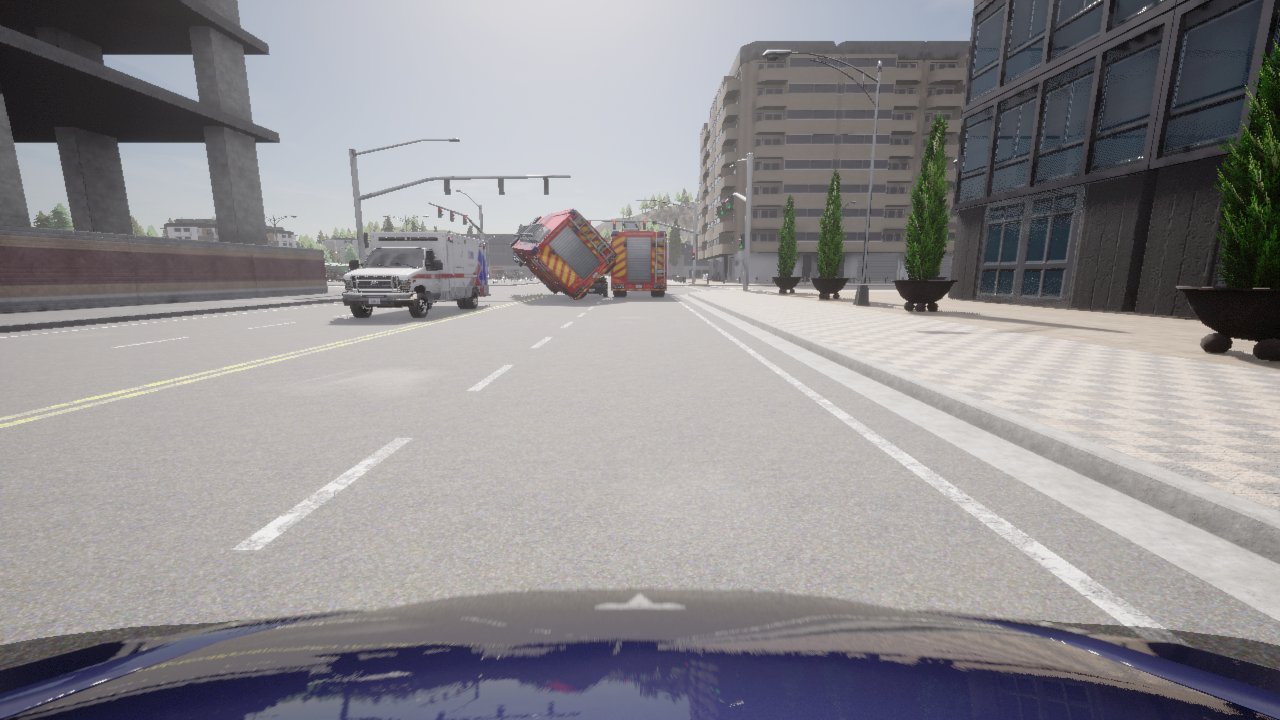cyclist: (0, 588, 1279, 719), (342, 232, 490, 317), (510, 208, 619, 299), (611, 221, 666, 296), (586, 274, 607, 296), (326, 268, 341, 281), (335, 271, 349, 281), (509, 271, 523, 278), (496, 270, 508, 278), (341, 269, 352, 272)
